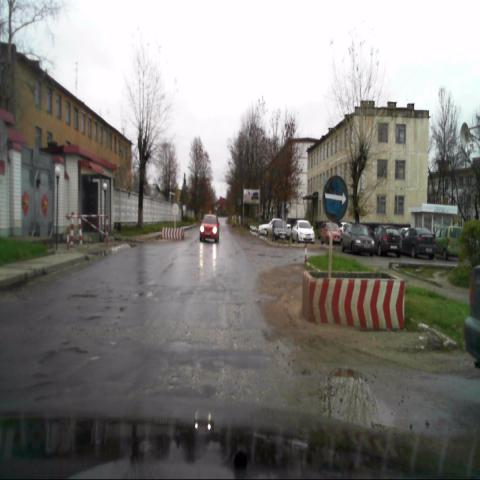4_1_2_1: (322, 175, 348, 224)
